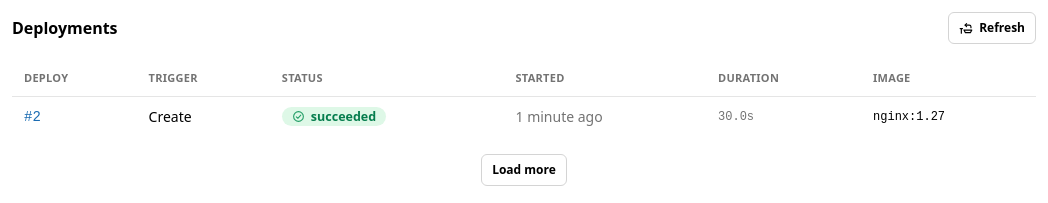
Test: AppDetailDeployments › lists deploys and loads older pages
Expected: the link "#2" is shown, [24, 109, 41, 125]
Click the button "Load more" at (524, 170), box [481, 154, 567, 186]
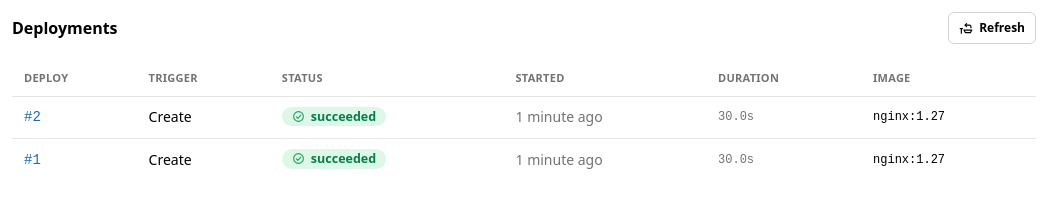
Expected: the link "#1" is shown, [24, 152, 41, 168]
Expected: the button "Load more" is gone
